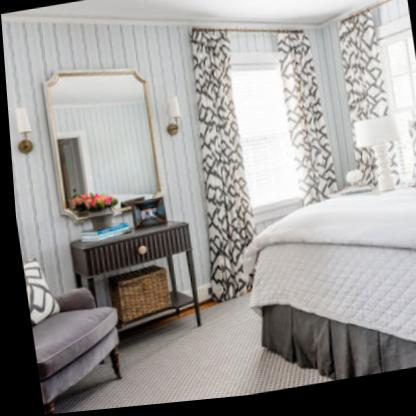Curtains: (188, 31, 252, 307), (276, 38, 336, 211)
